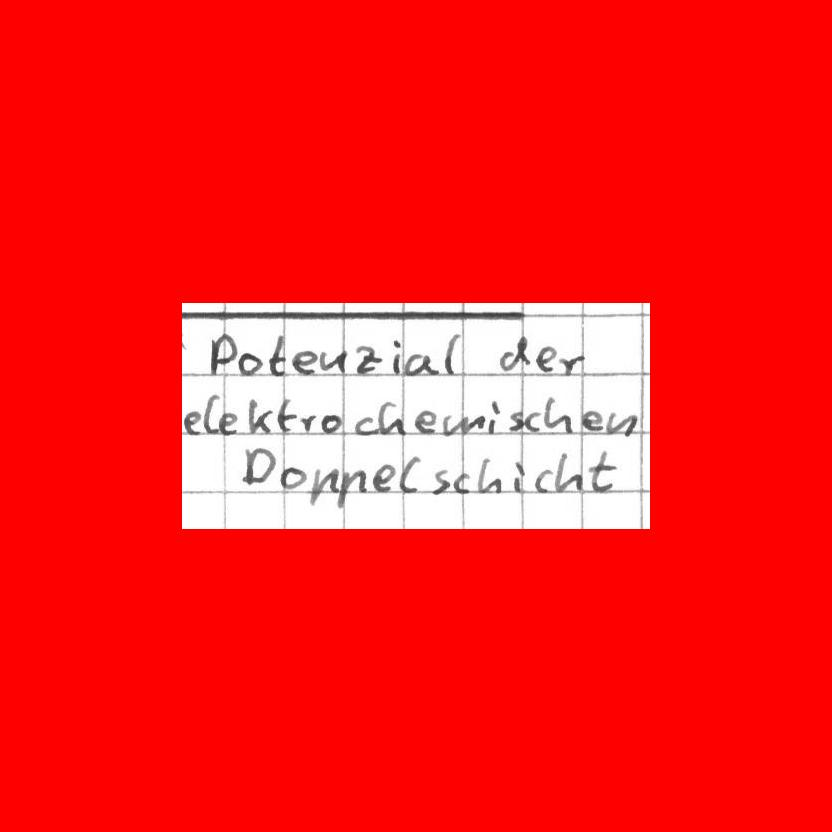Char: (239, 448, 275, 490), (335, 467, 369, 509), (496, 334, 532, 373), (308, 465, 339, 508), (588, 448, 617, 493), (208, 331, 234, 379), (543, 394, 575, 433), (555, 450, 582, 493), (440, 413, 486, 436), (477, 454, 502, 494), (378, 399, 405, 436), (247, 398, 273, 436), (267, 333, 288, 377), (398, 455, 421, 495), (441, 330, 460, 377), (405, 350, 438, 377), (355, 345, 383, 376), (291, 346, 319, 376), (320, 346, 348, 376), (371, 462, 396, 493), (607, 410, 635, 437), (201, 394, 218, 434), (238, 350, 264, 376), (278, 465, 305, 490), (277, 395, 294, 433), (413, 408, 438, 433), (536, 345, 558, 373), (559, 352, 584, 376), (512, 459, 530, 492), (581, 408, 604, 433), (353, 414, 378, 436), (320, 412, 343, 435), (219, 411, 241, 435), (534, 468, 555, 493), (487, 397, 500, 437), (432, 468, 451, 493), (453, 469, 471, 494), (390, 340, 402, 376), (524, 411, 543, 433), (178, 327, 189, 365), (299, 411, 317, 434), (507, 409, 523, 432), (183, 407, 195, 434)
